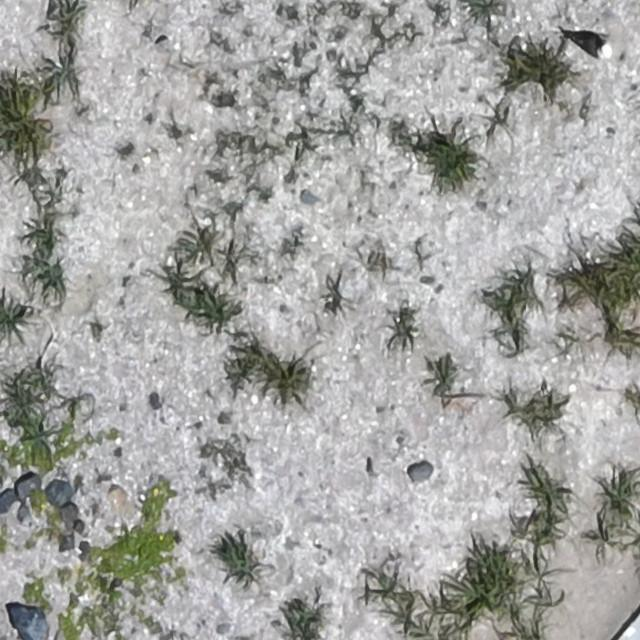umineko: (571, 35, 606, 55)
